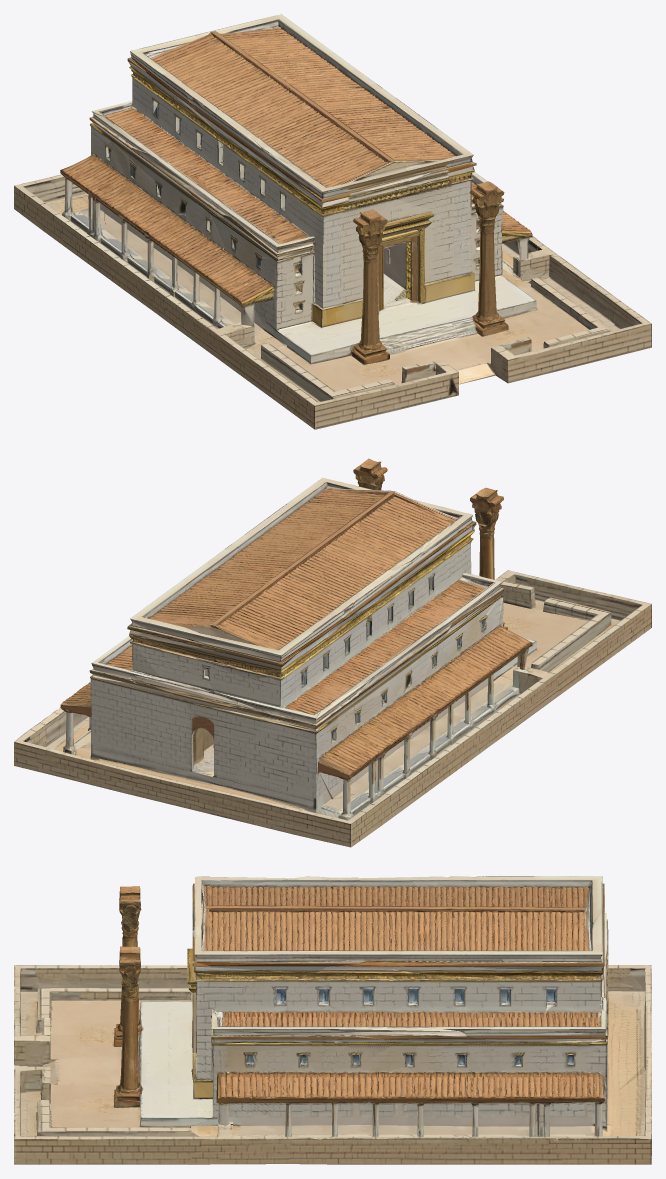
Rendered from temple.glb.
3 renders of one model, top to bottom at view 1: azimuth 30°, elevation 25°; view 2: azimuth 150°, elevation 25°; view 3: azimuth 270°, elevation 25°, orthographic. The views are drawn at different scales.
Bounding box in the file's own units: 1.23 × 0.5693 × 1.9.
Materials: 1 (1 with a texture image).
